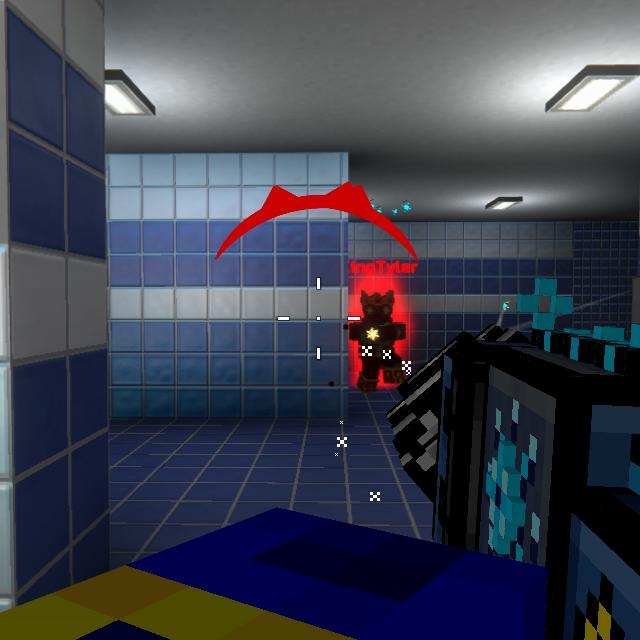Enemy: (348, 292, 407, 393)
